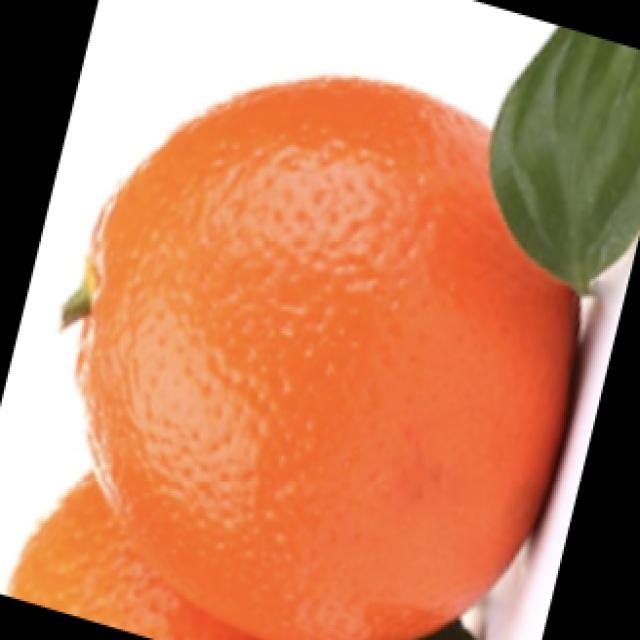Orange: (60, 73, 581, 639), (7, 433, 305, 640)
